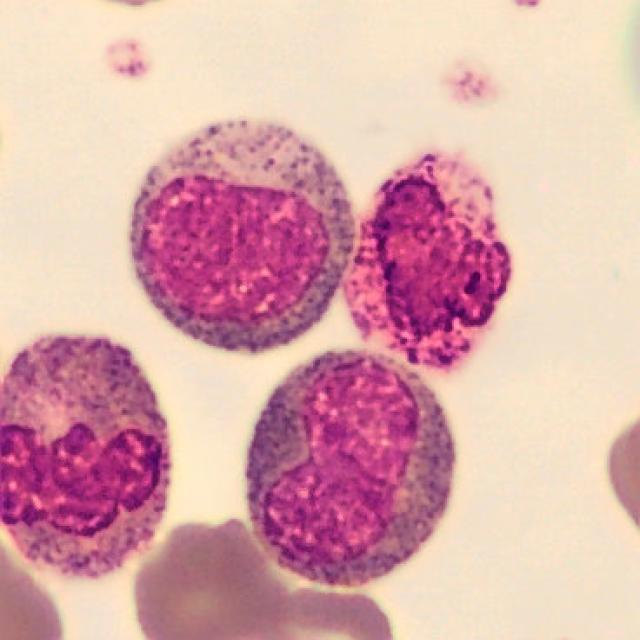Bastonete: (0, 336, 172, 581)
Metamielocito: (245, 351, 457, 592)
Mielocito: (127, 119, 358, 355)
Restos celulares: (343, 152, 513, 368)
